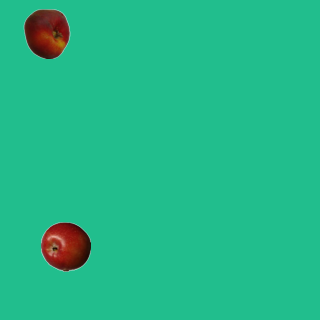Apple Braeburn: (40, 221, 90, 271)
Nectarine Flat: (21, 8, 71, 58)
